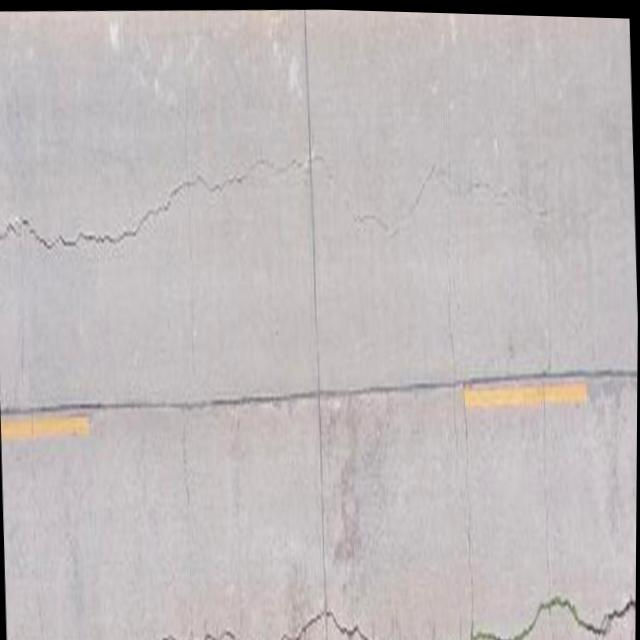Crack: (150, 570, 637, 640), (0, 156, 226, 274)
